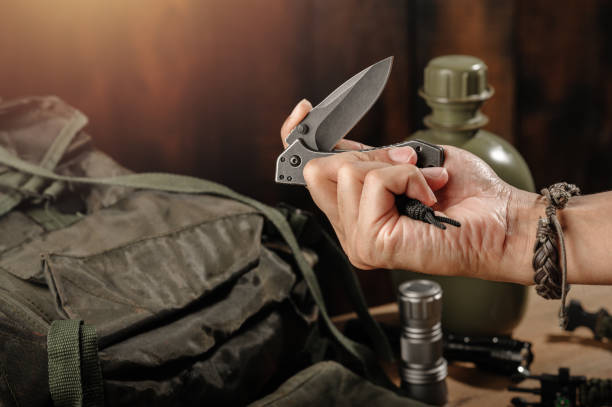knife: (276, 54, 444, 188)
